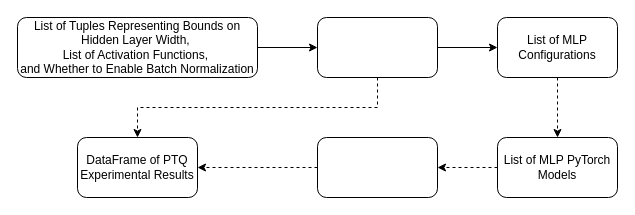
This 635x215 diagram has some shape labels left out. The shapes that lost their labels are listed below. From the top down, each one's centre as x and y in pixels, then its label:
At (x=377, y=47): "DataFrame of MLP Architectures".
At (x=377, y=167): "List of Trained PyTorch Models".
